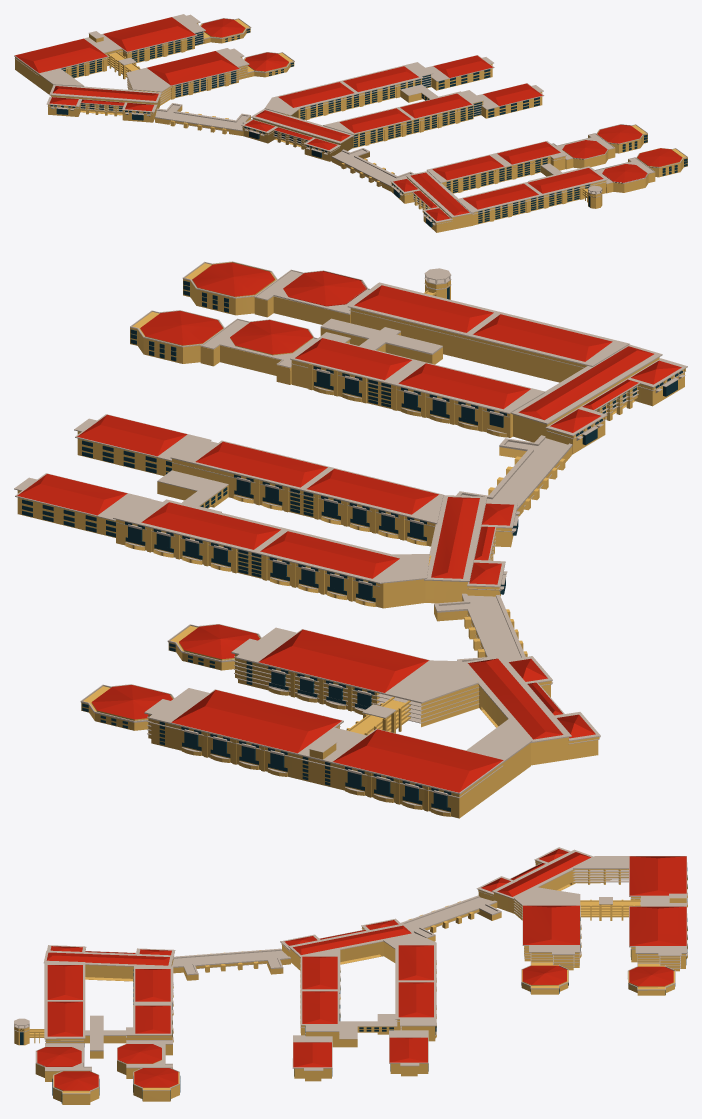
Rendered from JXL  S .FBX.
The picture shows the model from 3 angles, top to bottom: view 1: azimuth 30°, elevation 25°; view 2: azimuth 150°, elevation 25°; view 3: azimuth 270°, elevation 25°; orthographic projection. The views are drawn at different scales.
Visible parts, largest first — view 1: 组001; view 2: 组001; view 3: 组001.
Boxes of the visible parts, x1,y1,x2,y2 form: 组001: (14, 14, 687, 232); 组001: (14, 261, 687, 818); 组001: (14, 847, 687, 1104).
Size of the model in its own units: 5.16 by 0.2206 by 6.01.
